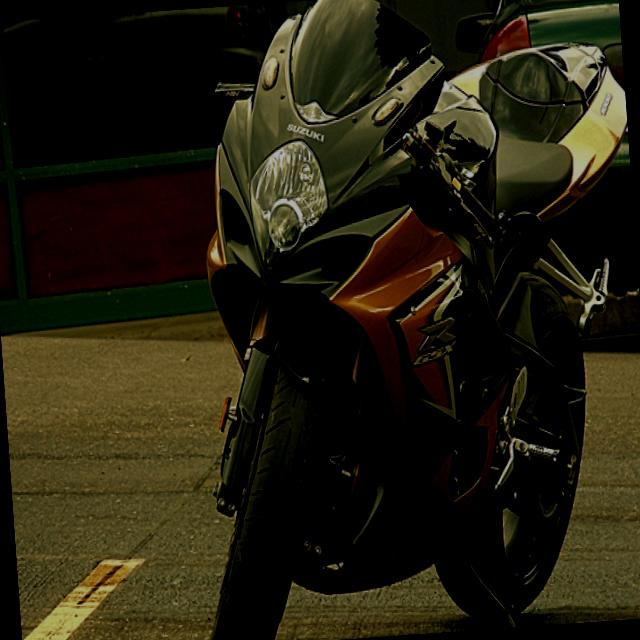Vehicle: (143, 0, 640, 640), (450, 0, 635, 254), (0, 2, 281, 160)
